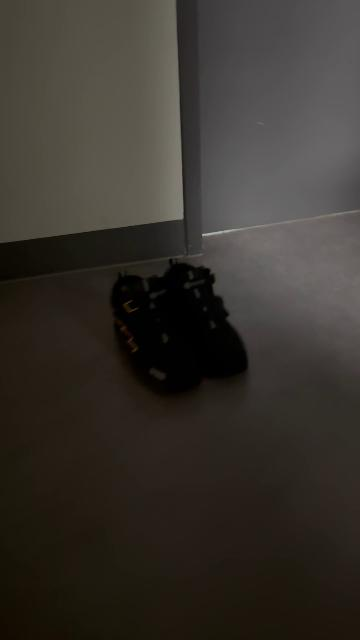shoe_worn: (108, 269, 203, 401), (157, 260, 252, 387)
